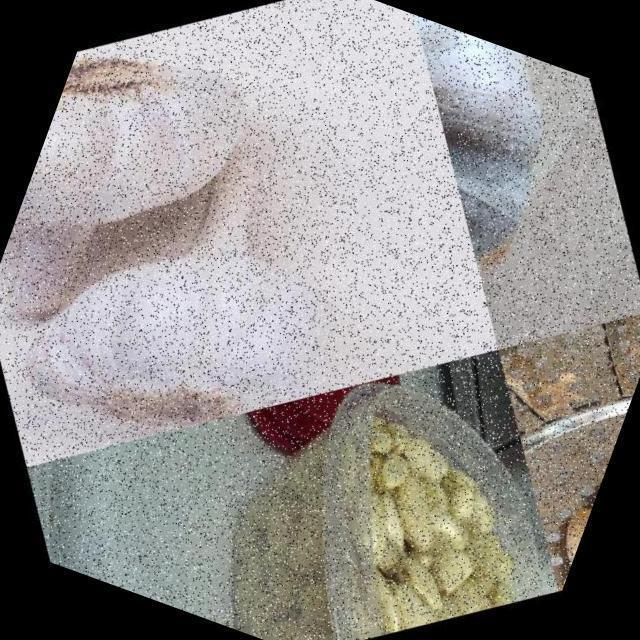garlic: (0, 61, 429, 553), (0, 0, 358, 413), (146, 308, 586, 640), (311, 5, 640, 319), (498, 399, 624, 592)
